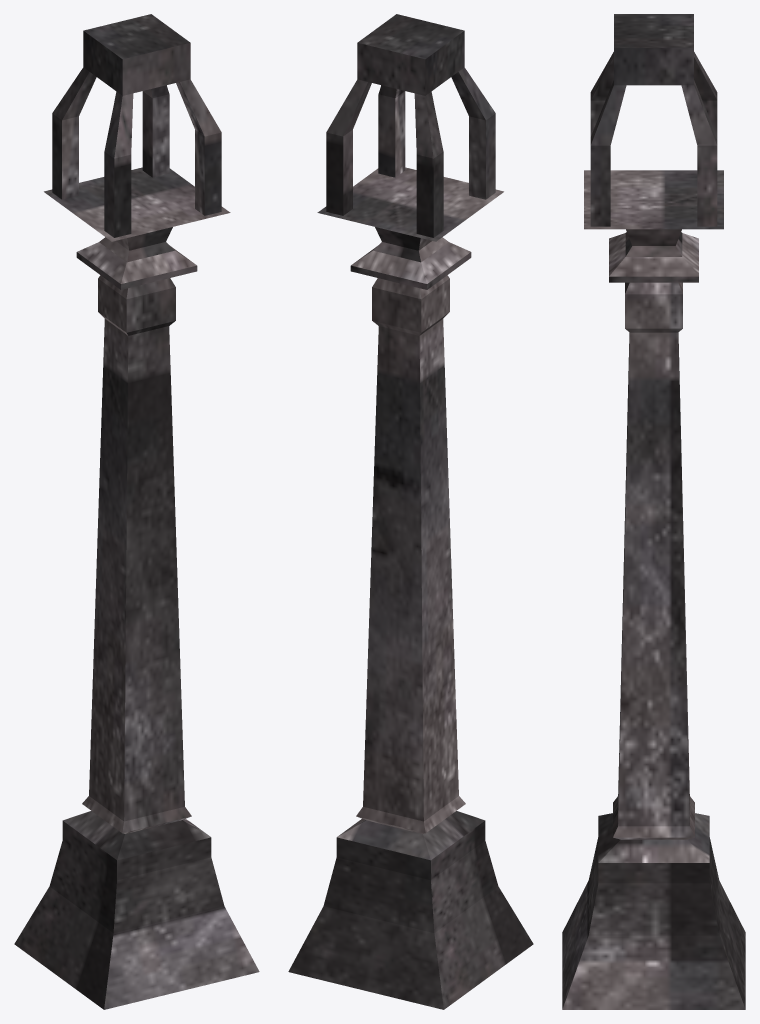
File: lamp.fbx
The picture shows the model from 3 angles, left to right: view 1: azimuth 30°, elevation 25°; view 2: azimuth 150°, elevation 25°; view 3: azimuth 270°, elevation 25°; orthographic projection. The views are drawn at different scales.
Visible parts, largest first — view 1: Cube; view 2: Cube; view 3: Cube.
Part boxes in pixels (x1=…): Cube: x1=14, y1=14, x2=259, y2=1009; Cube: x1=288, y1=14, x2=533, y2=1009; Cube: x1=562, y1=14, x2=745, y2=1009.
Size of the model in its own units: 139 by 784 by 139.
